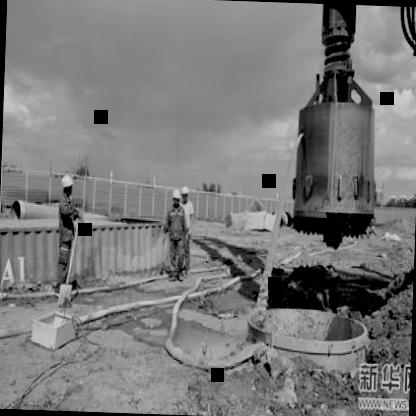helmet: (58, 168, 74, 198), (180, 182, 190, 206), (172, 188, 182, 210)
